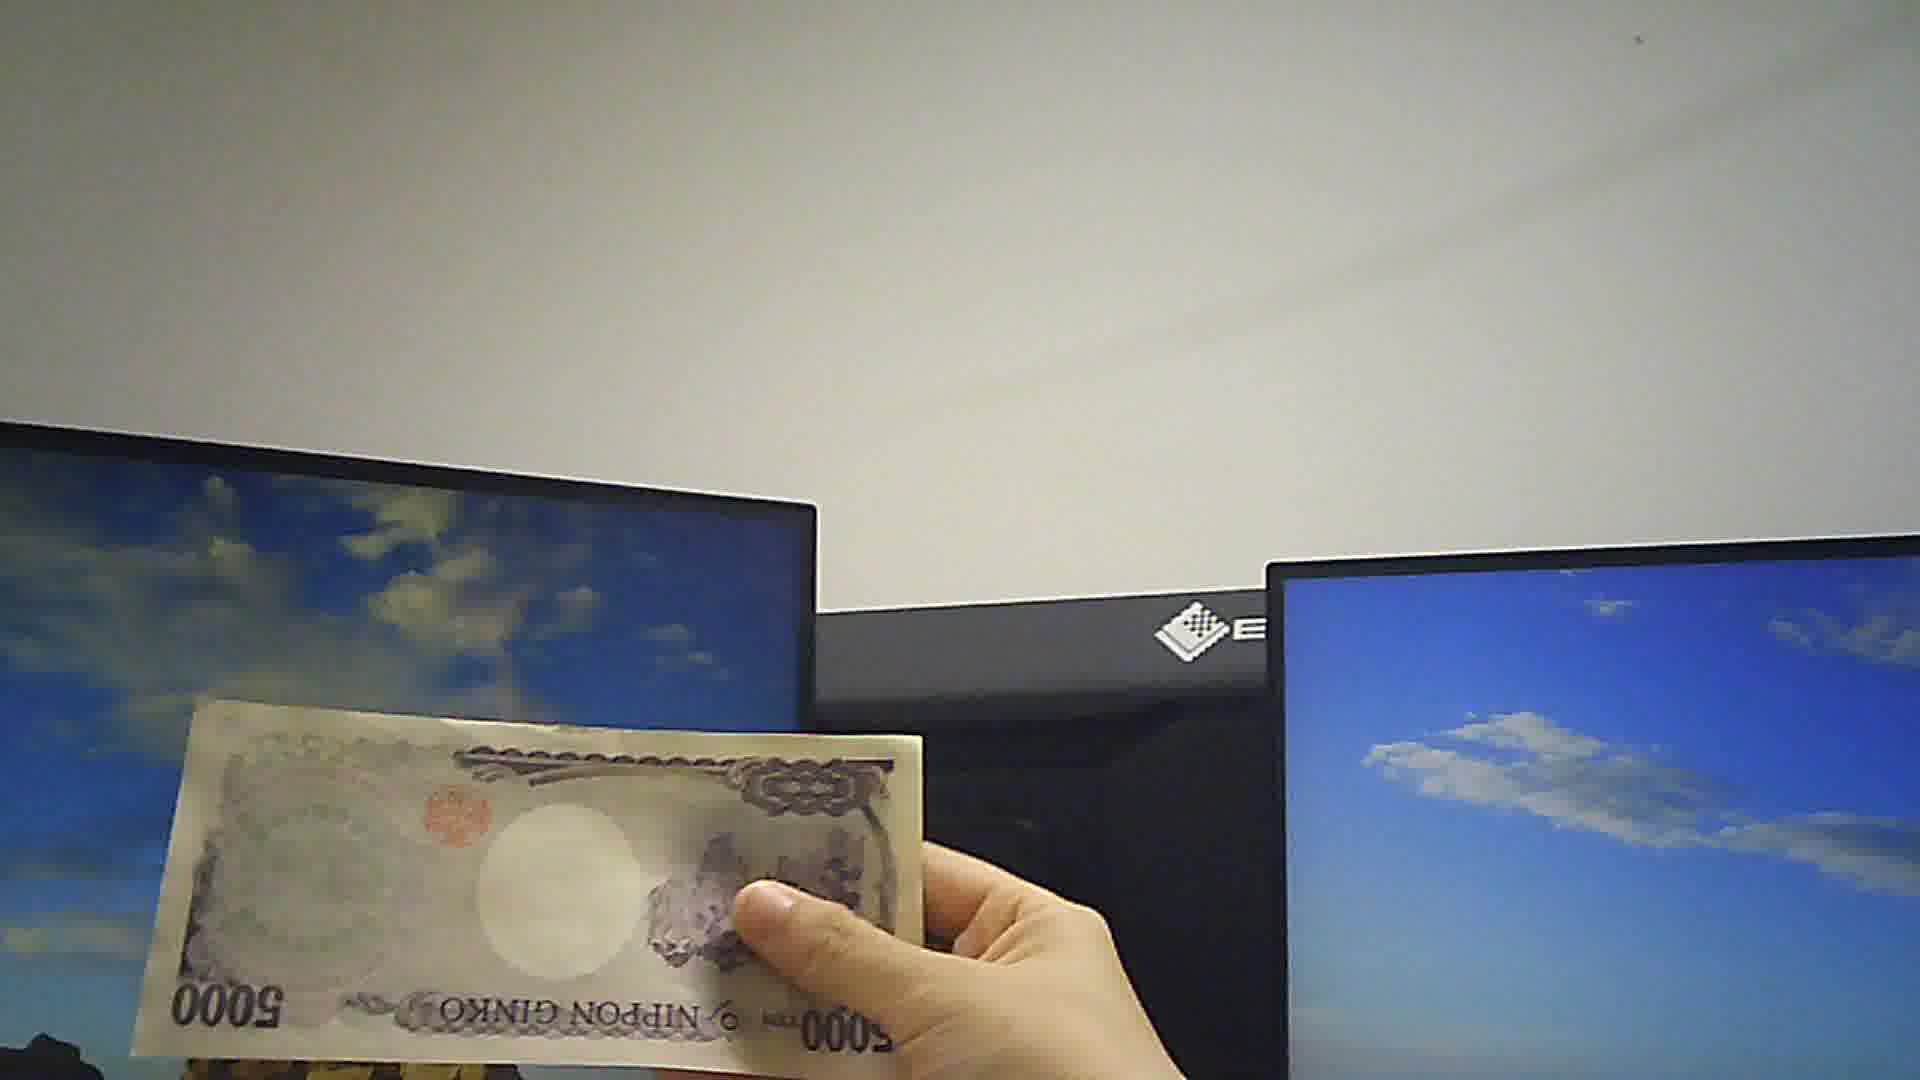5,000 Yen: (132, 683, 968, 1068)
